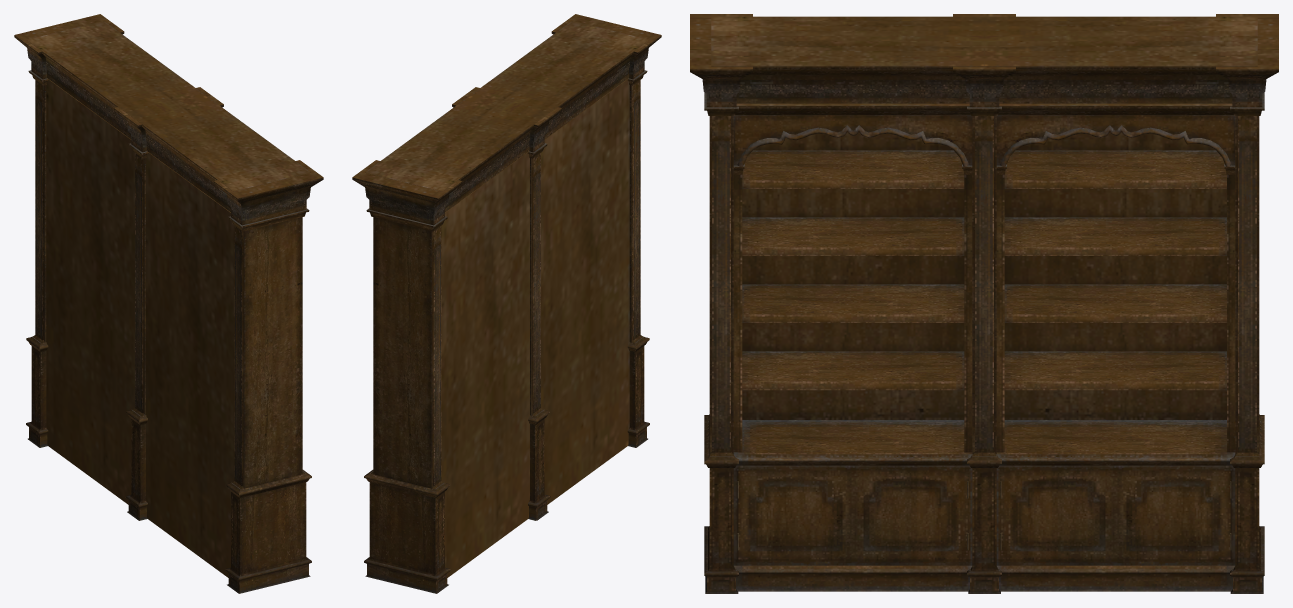
Rendered from 160_BookShelf.fbx.
3 renders of one model, left to right at view 1: azimuth 30°, elevation 25°; view 2: azimuth 150°, elevation 25°; view 3: azimuth 270°, elevation 25°, orthographic. The views are drawn at different scales.
Parts seen in each view (by area): view 1: LOD_1_Group_0_Sub_1__sm30_159_BookShelf01A_B_Mat; view 2: LOD_1_Group_0_Sub_1__sm30_159_BookShelf01A_B_Mat; view 3: LOD_1_Group_0_Sub_1__sm30_159_BookShelf01A_B_Mat.
Boxes of the visible parts, x1,y1,x2,y2 form: LOD_1_Group_0_Sub_1__sm30_159_BookShelf01A_B_Mat: [14, 14, 323, 593]; LOD_1_Group_0_Sub_1__sm30_159_BookShelf01A_B_Mat: [352, 14, 661, 593]; LOD_1_Group_0_Sub_1__sm30_159_BookShelf01A_B_Mat: [690, 14, 1278, 593].
Bounding box in the file's own units: 0.6117 × 2.72 × 2.74.
